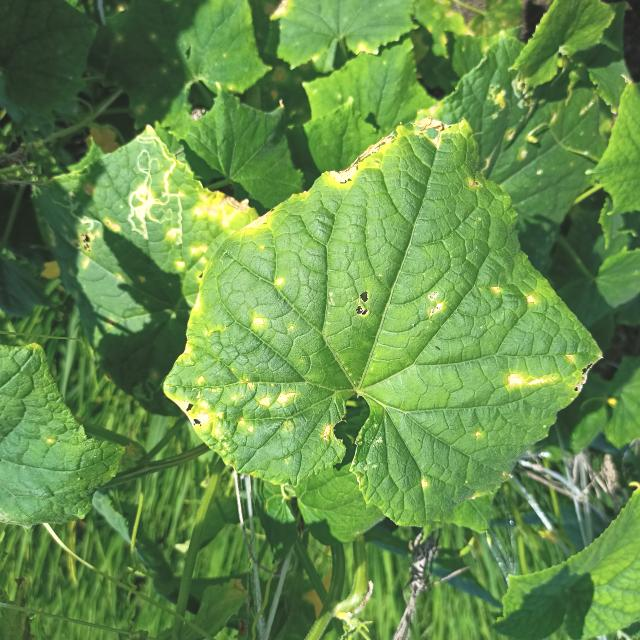disease_cucumber: (181, 373, 295, 448), (317, 129, 409, 190), (190, 186, 272, 243), (505, 348, 593, 396), (424, 288, 448, 316), (490, 282, 504, 296), (523, 293, 538, 306), (253, 314, 266, 326), (419, 475, 429, 488), (276, 270, 284, 285)
